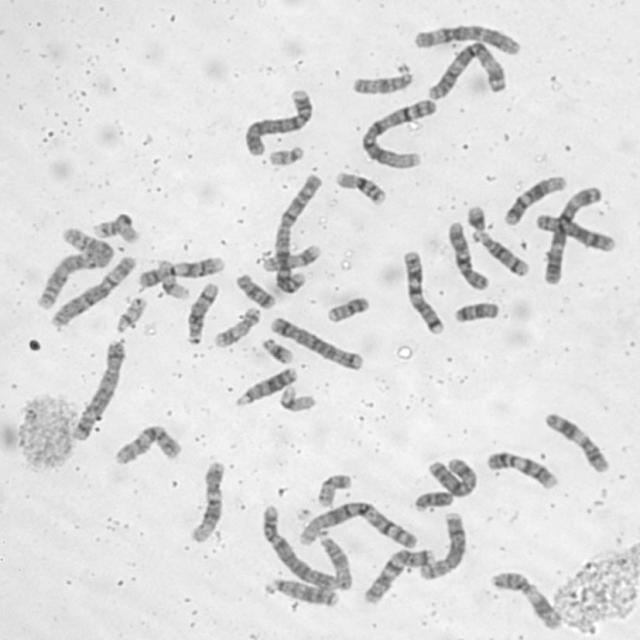A1: (292, 499, 420, 550), (357, 95, 438, 170)
A2: (34, 223, 115, 311), (270, 171, 324, 297)
A3: (540, 183, 604, 285), (424, 38, 510, 102)
B4: (258, 501, 336, 592), (239, 85, 315, 158)
B5: (66, 336, 128, 443), (266, 314, 365, 372)
C10: (445, 218, 490, 292), (111, 421, 183, 467)
C11: (488, 567, 562, 633), (541, 408, 612, 475)
C12: (501, 172, 567, 226), (187, 457, 227, 544)
C6: (48, 252, 138, 329), (409, 22, 522, 56)
C7: (360, 545, 436, 606), (399, 248, 446, 336)
C8: (417, 508, 468, 582), (532, 210, 616, 253)
C9: (484, 448, 560, 492), (135, 254, 227, 288)
D13: (231, 364, 298, 406), (262, 576, 339, 608)
D14: (469, 227, 532, 278), (183, 280, 220, 346)
D15: (315, 528, 354, 592), (349, 64, 414, 97)
E16: (333, 169, 390, 207), (90, 211, 140, 245)
E17: (210, 303, 261, 349), (258, 241, 322, 273)
E18: (233, 271, 277, 310), (450, 298, 501, 326)
F19: (155, 257, 191, 300), (278, 383, 319, 413)
F20: (314, 472, 354, 508), (324, 294, 372, 323)
G21: (260, 335, 295, 365), (463, 202, 488, 234)
G22: (112, 294, 149, 334), (265, 142, 305, 167)
X: (424, 454, 478, 499)
Y: (411, 488, 455, 513)
